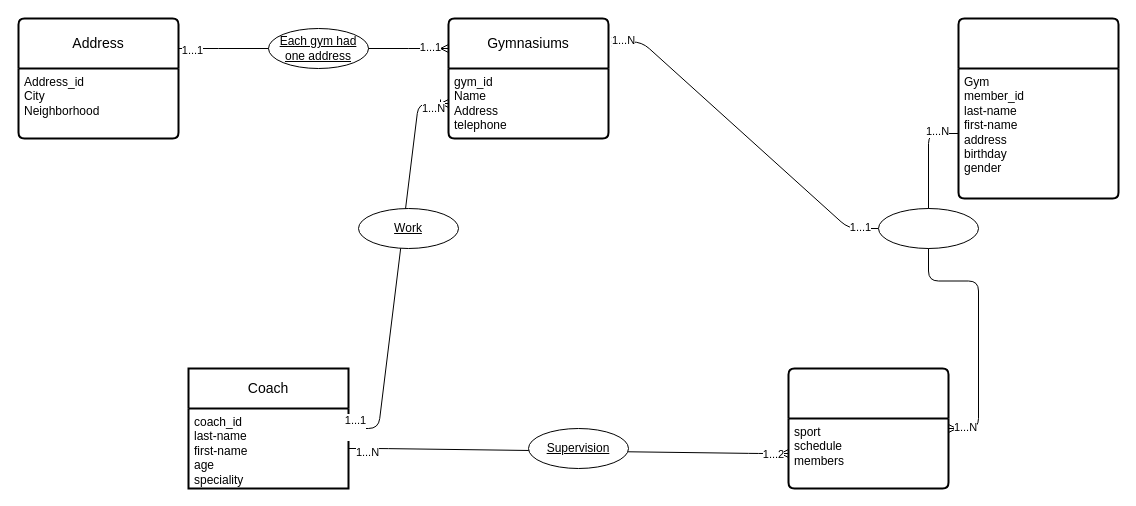
The diagram is 1136 pixels wide and 506 high, and some of its shapes have lost their labels. Each missing label, with the box of its shape:
Members: (957, 17, 1119, 199)
session: (787, 367, 949, 489)
Subscription: (878, 208, 978, 248)
